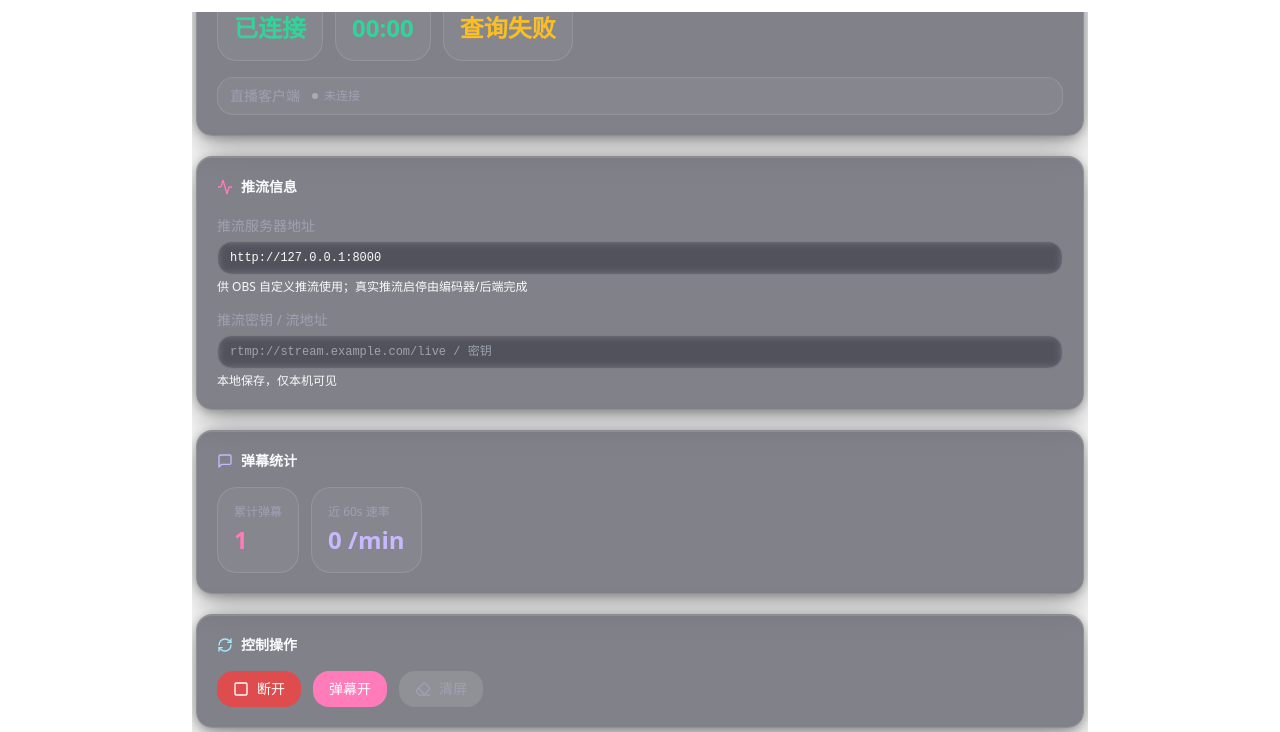
Test case: LiveConsolePage 直播控制台页 › 弹幕累计、开关切换与清屏交互
(page scrolled)
Expected: the text "1" is shown, [234,523,248,556]
# 弹幕开关：开 → 关
Click the button "弹幕开" at coordinates (350, 689), box [313,671,387,707]
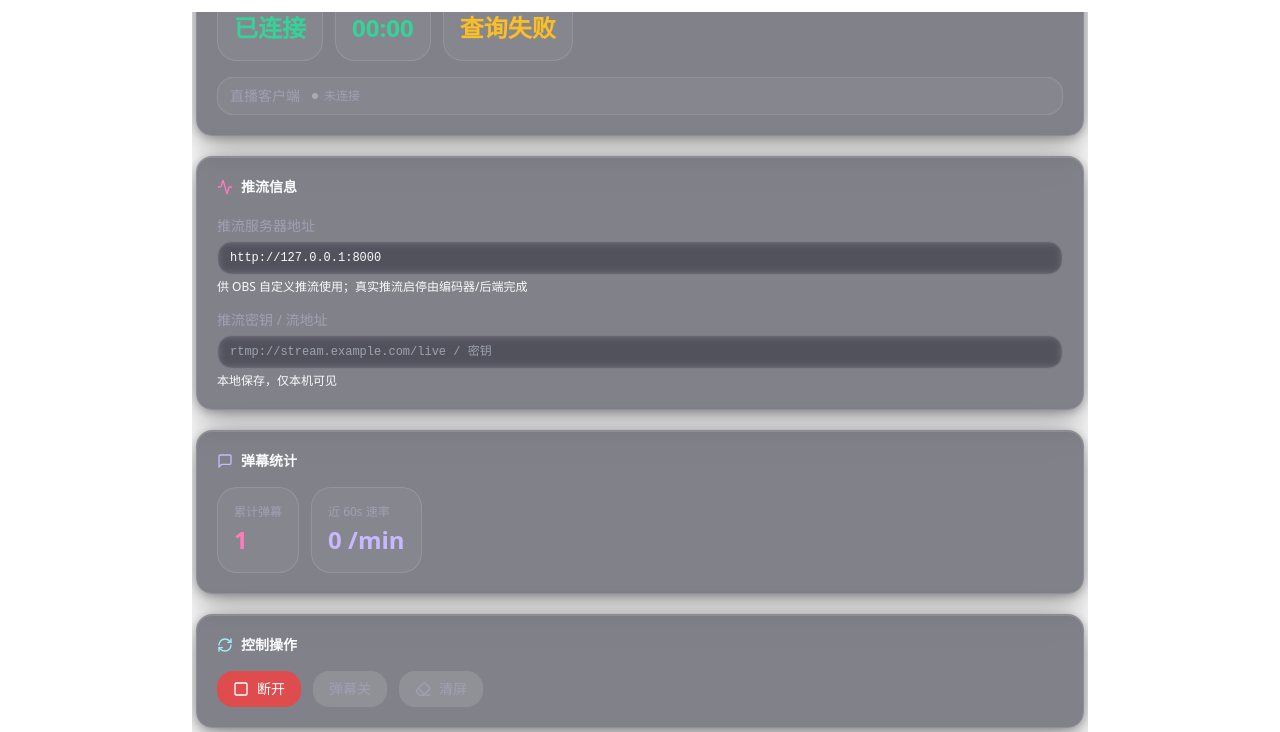
Expected: the button "弹幕关" is shown, [313,671,387,707]
#  清屏：累计归零
Click the button "清屏" at coordinates (441, 689), box [399,671,483,707]
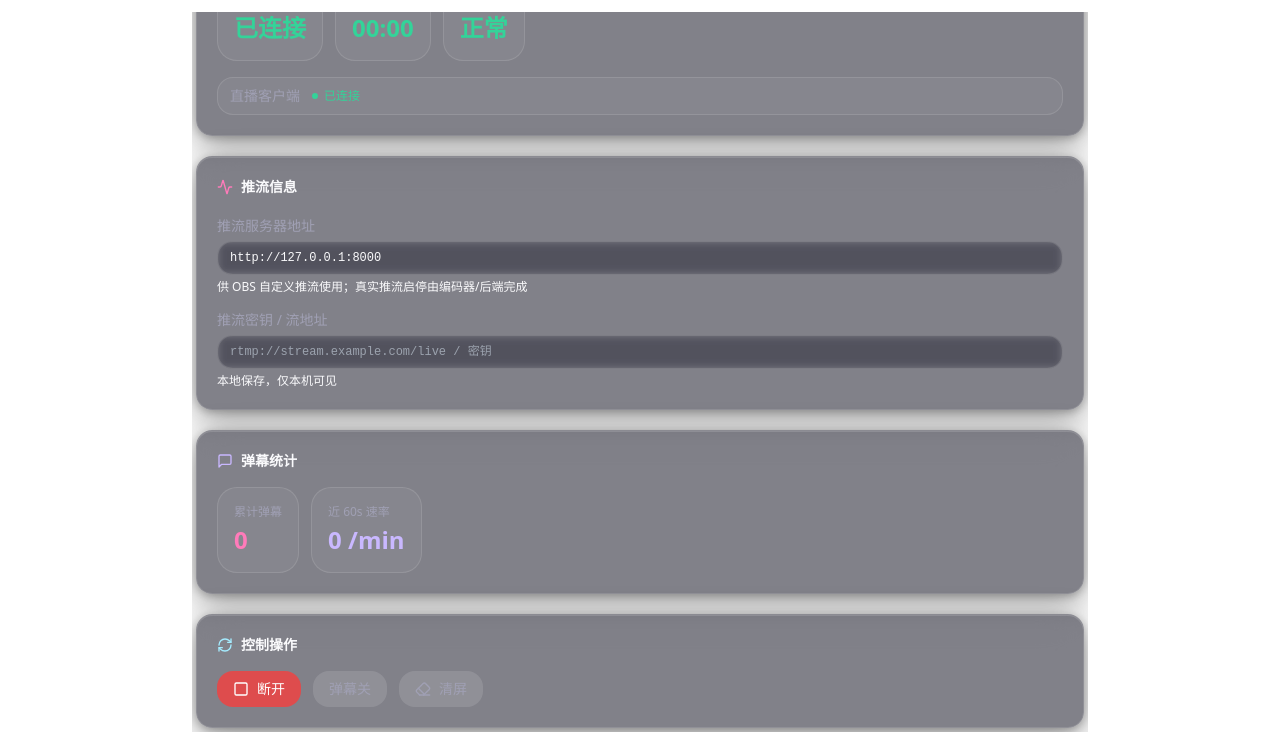
Expected: the text "0" is shown, [234,523,248,556]
